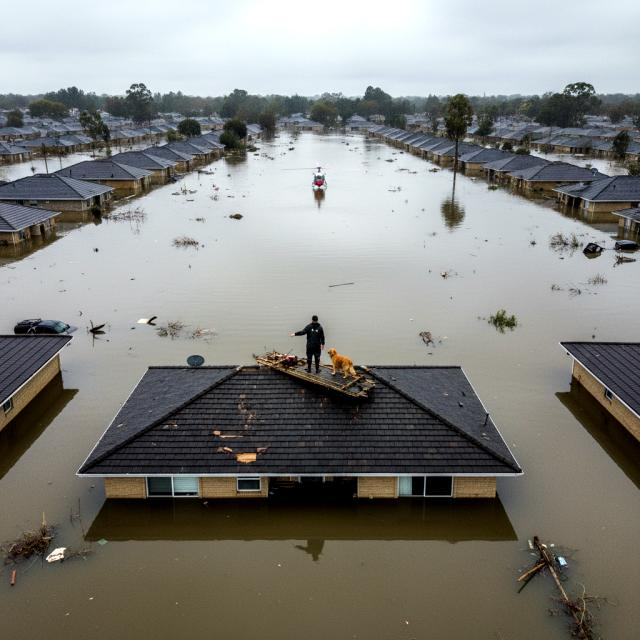civilian: (287, 307, 330, 378)
dog: (326, 347, 360, 382)
